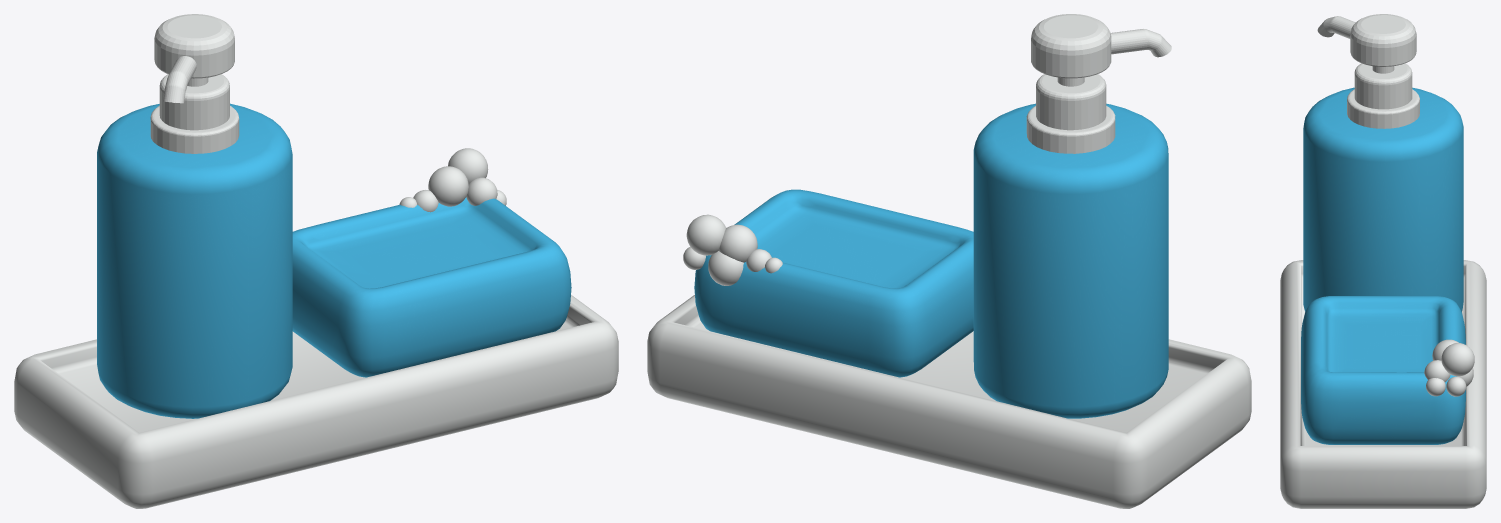
File: soap.glb
3 views of the same model, side by side, from view 1: azimuth 30°, elevation 25°; view 2: azimuth 150°, elevation 25°; view 3: azimuth 270°, elevation 25° (orthographic). The views are drawn at different scales.
Visible parts, largest first — view 1: 0013_primitive0; view 2: 0013_primitive0; view 3: 0013_primitive0.
Part boxes in pixels (x1,y1,x2,y2): 0013_primitive0: (14,14,618,508); 0013_primitive0: (647,14,1251,508); 0013_primitive0: (1280,14,1486,508).
Bounding box in the file's own units: 1.68 × 1.35 × 0.7363.
1 material, 1 textured.
